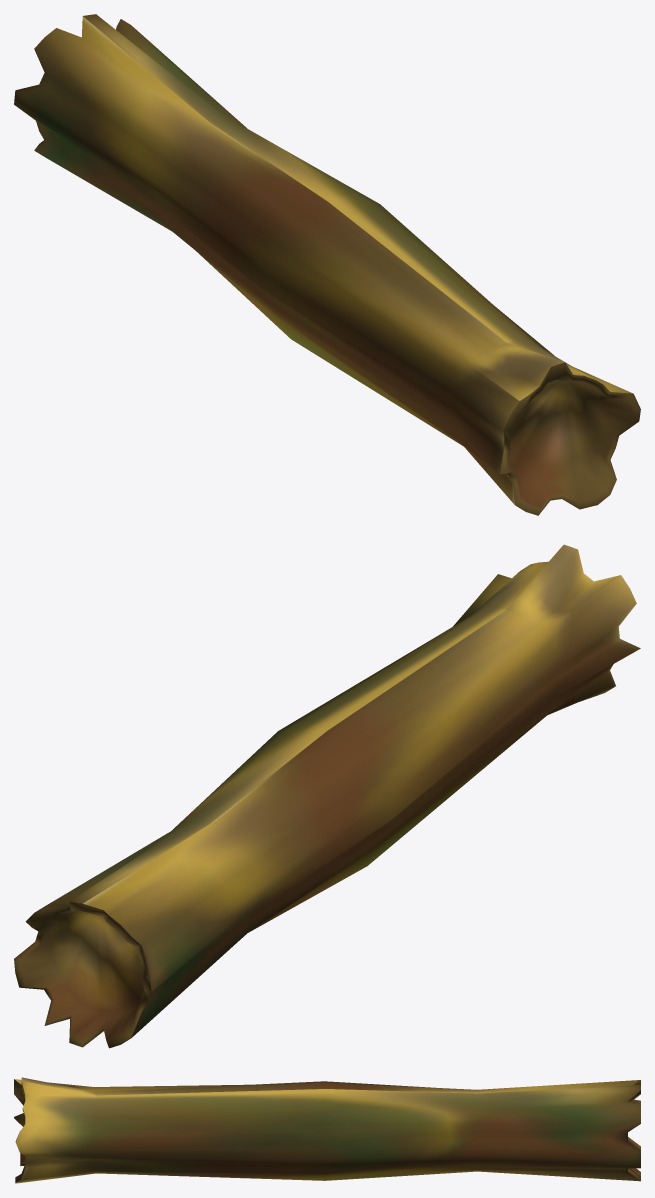
Rendered from log.fbx.
3 views of the same model, one above another, from view 1: azimuth 30°, elevation 25°; view 2: azimuth 150°, elevation 25°; view 3: azimuth 270°, elevation 25° (orthographic). The views are drawn at different scales.
Parts seen in each view (by area): view 1: Cylinder; view 2: Cylinder; view 3: Cylinder.
Boxes of the visible parts, x1,y1,x2,y2 form: Cylinder: (14,14,640,515); Cylinder: (14,544,640,1048); Cylinder: (14,1077,640,1183).
Bounding box in the file's own units: 246 × 246 × 1444.
Materials: 1 (1 with a texture image).
